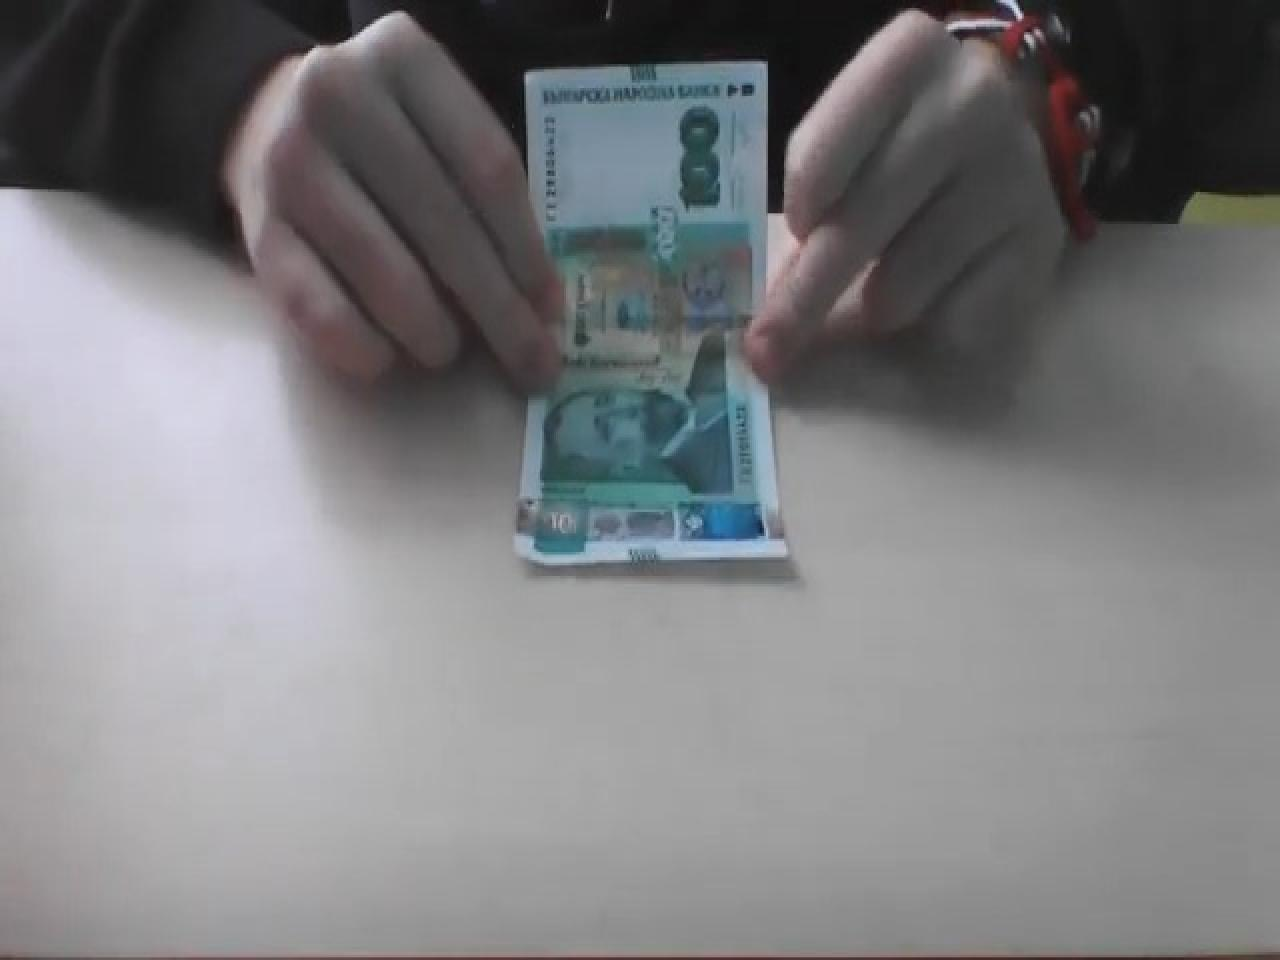100leva: (512, 58, 792, 576)
